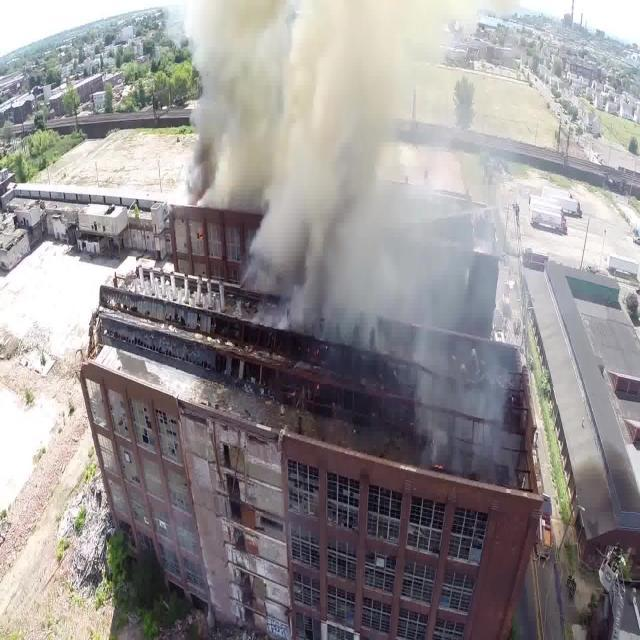Smoke: (182, 0, 532, 477)
